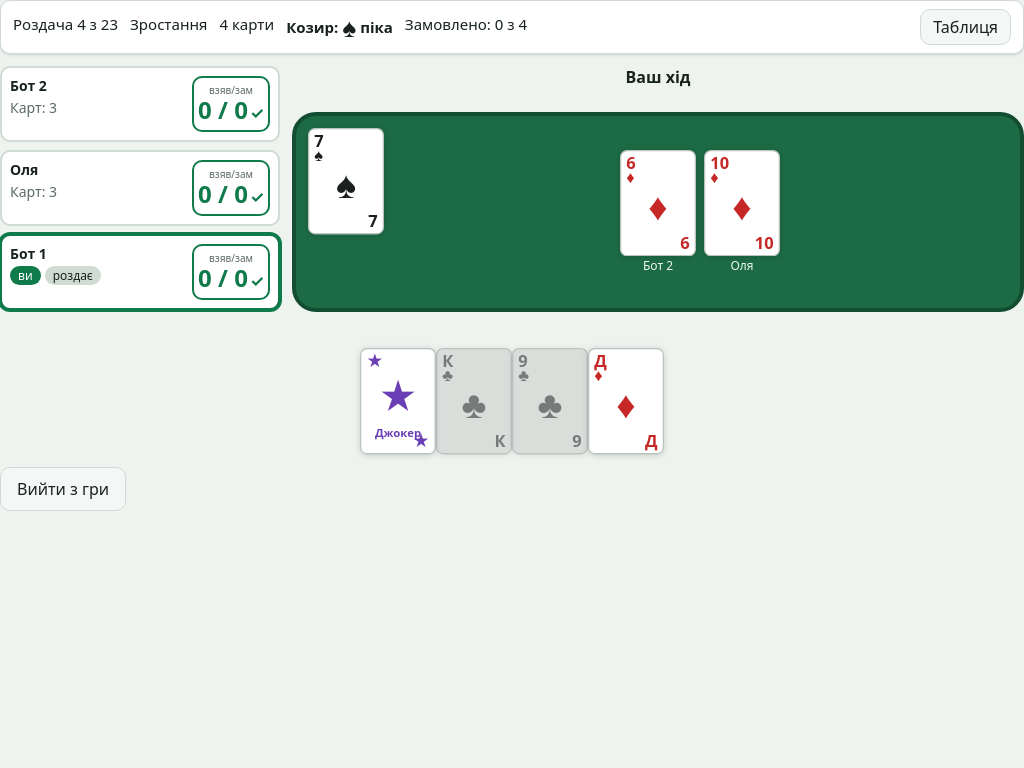
Test: діалоги джокера › «Скасувати» і Escape закривають діалог без ходу
Click the button "★ ★ Джокер ★" at [398, 402], box top-left (360, 348), bottom-right (436, 455)
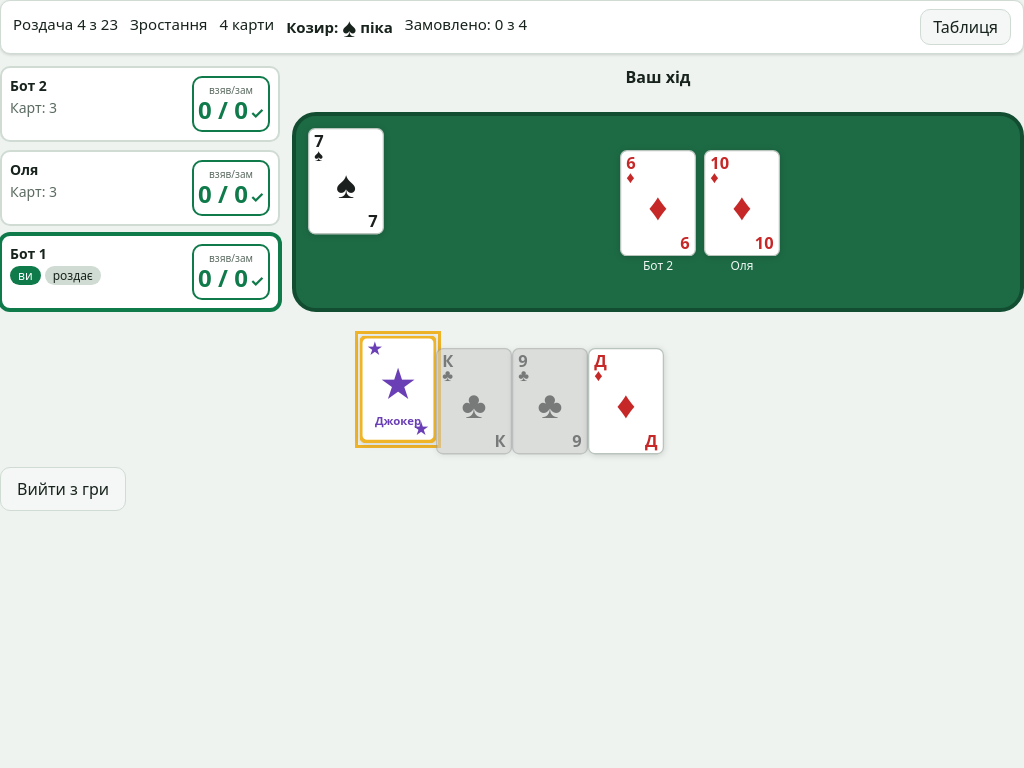
Click the button "★ ★ Джокер ★" at [398, 390], box top-left (360, 336), bottom-right (436, 443)
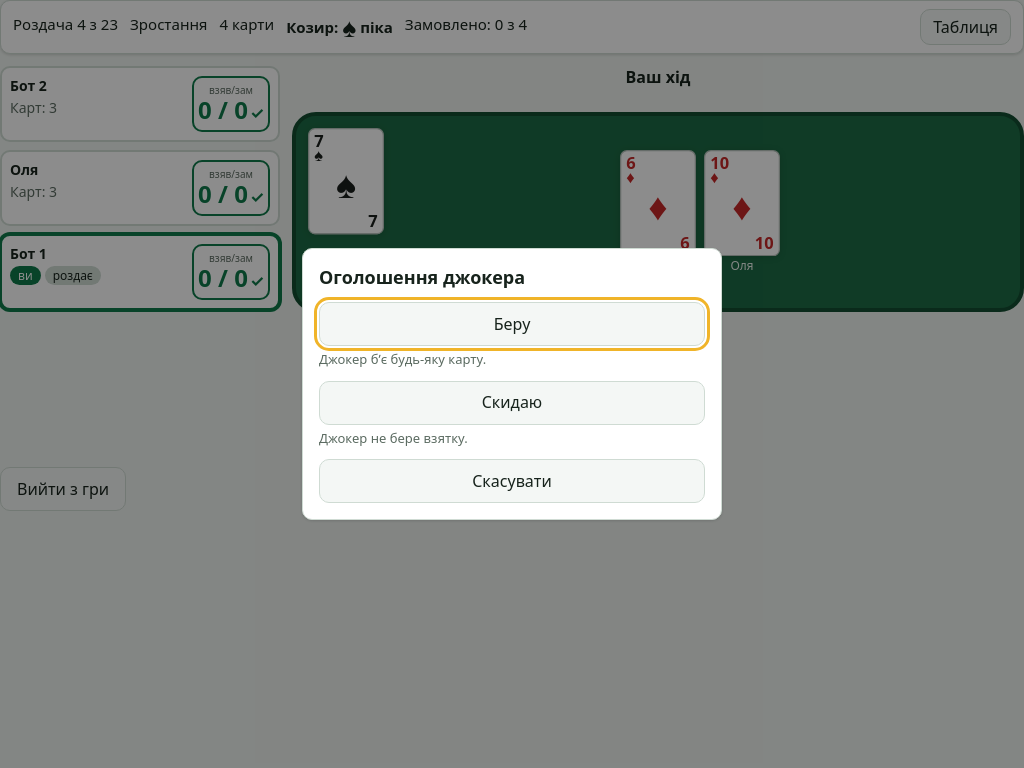
Click the button "Скасувати" at [512, 481], box top-left (319, 459), bottom-right (705, 503)
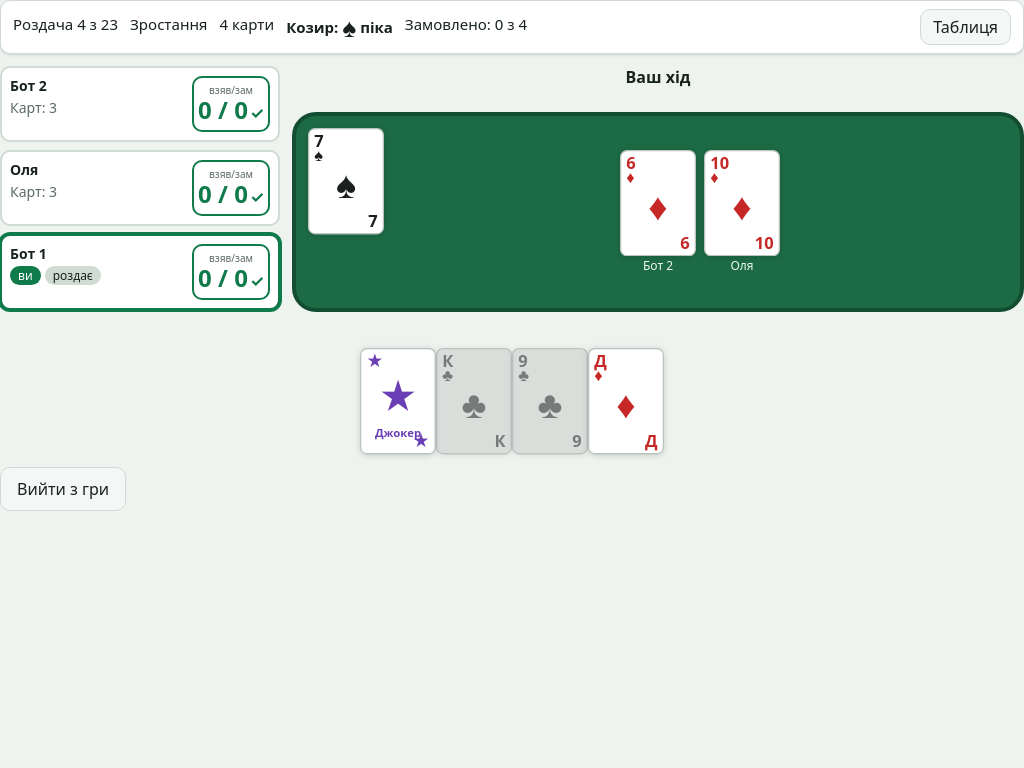
Expected: the dialog is gone
Click the button "★ ★ Джокер ★" at [398, 402], box top-left (360, 348), bottom-right (436, 455)
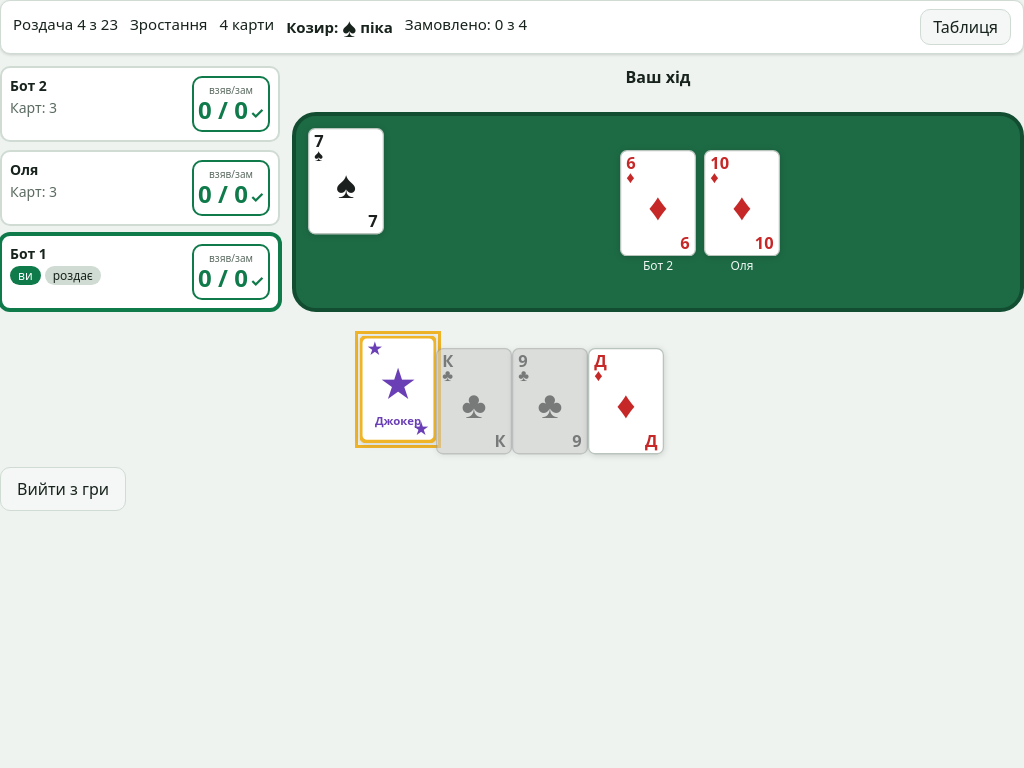
Click the button "★ ★ Джокер ★" at [398, 390], box top-left (360, 336), bottom-right (436, 443)
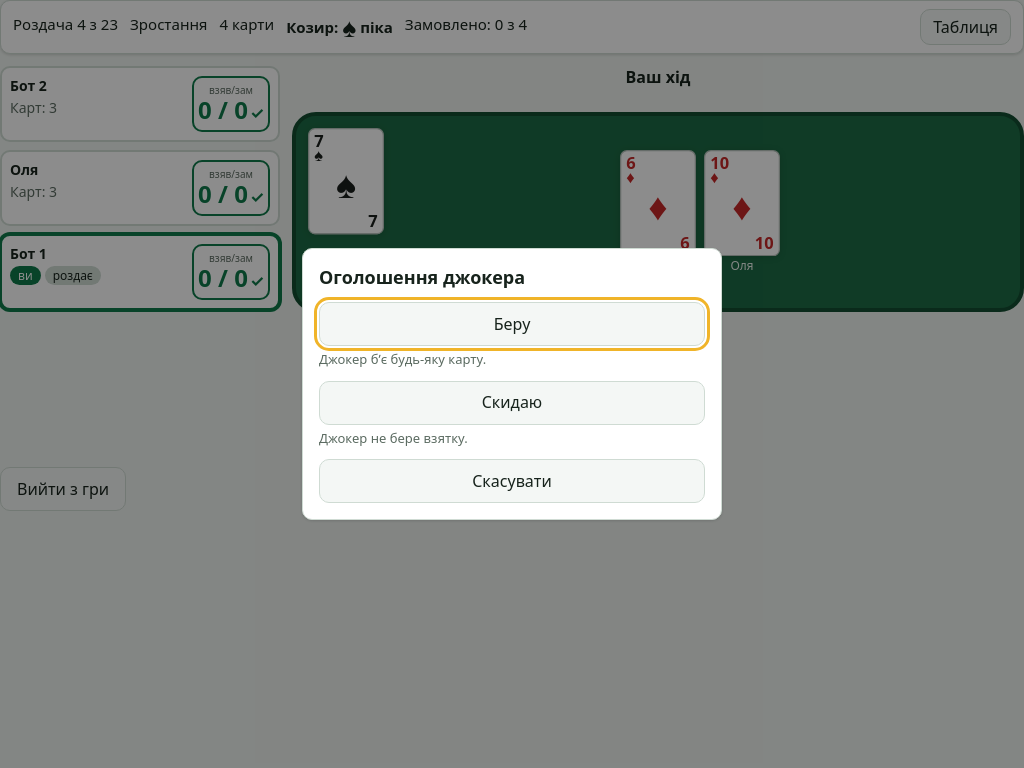
Expected: the dialog is shown, top-left (302, 248), bottom-right (722, 520)
Press Escape
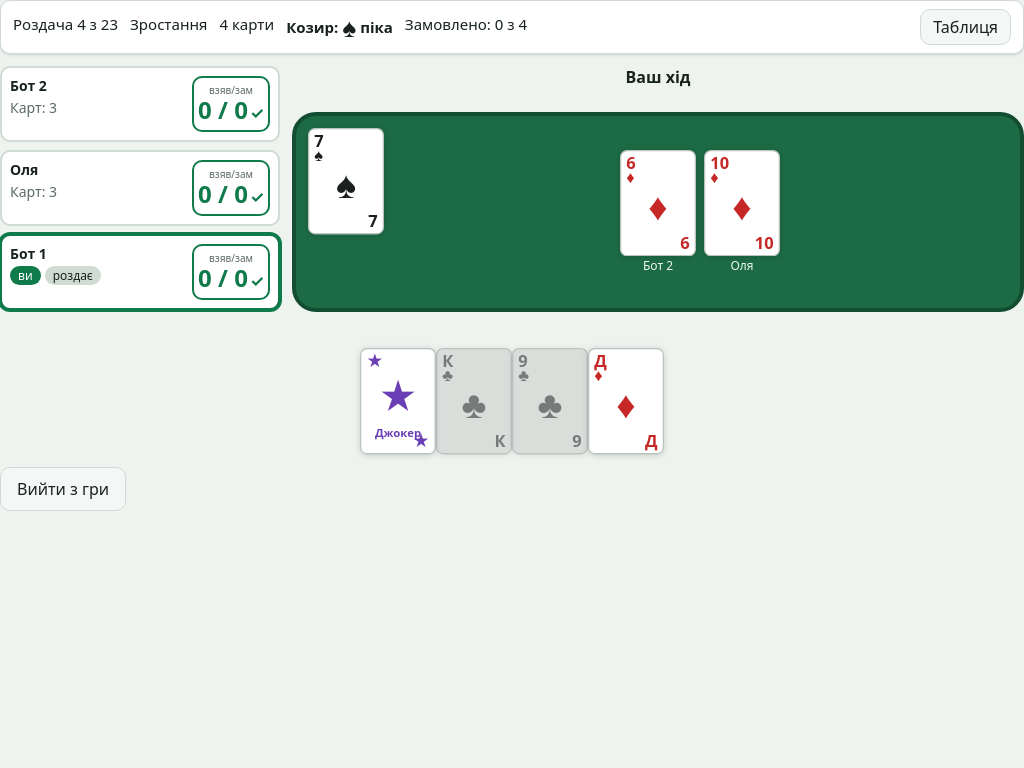
Expected: the dialog is gone
